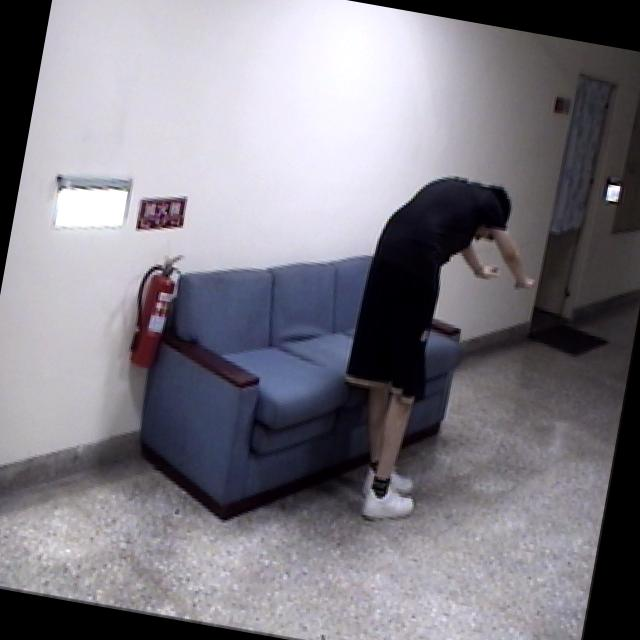bend: (308, 148, 560, 549)
